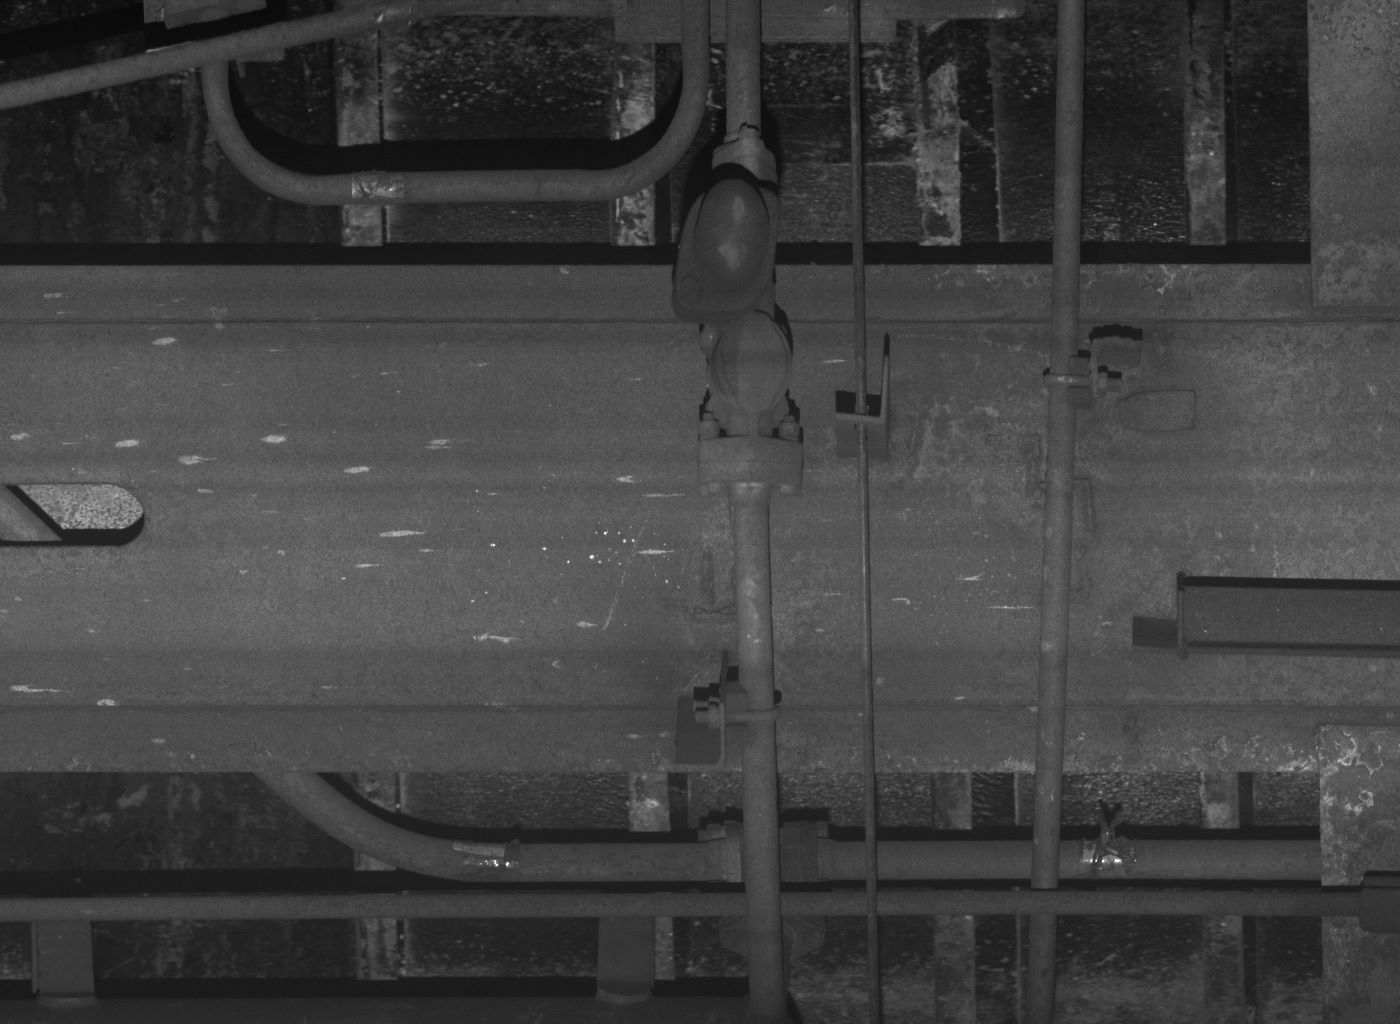normal: (698, 308, 795, 417)
